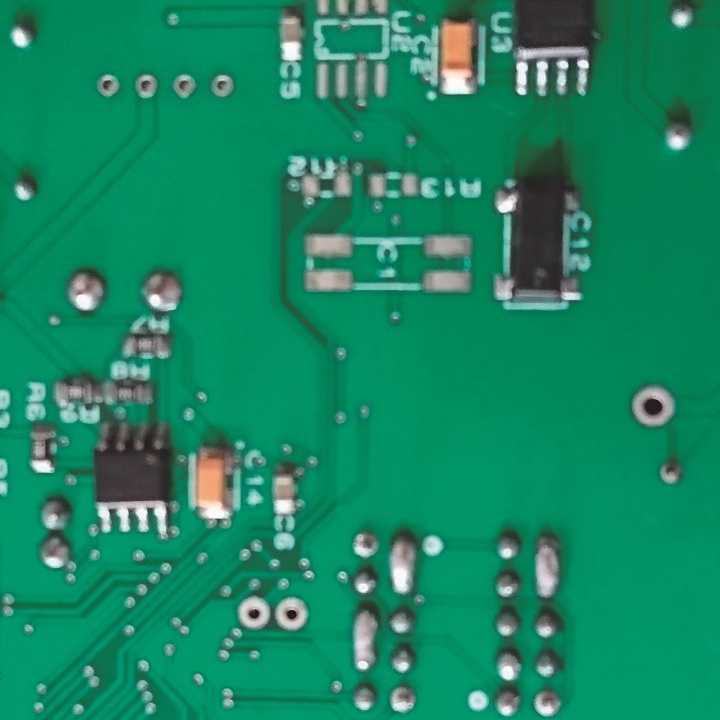F: (630, 383, 677, 429), (273, 591, 310, 635), (234, 595, 271, 631), (530, 689, 564, 717), (656, 456, 683, 486), (132, 71, 159, 100), (352, 529, 379, 558), (390, 684, 416, 713), (170, 72, 197, 98), (94, 74, 121, 98), (209, 71, 232, 98)
P: (387, 532, 416, 596), (535, 535, 562, 602), (353, 606, 377, 674)
